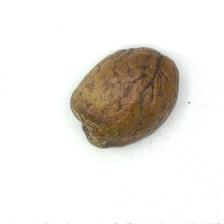NG: (124, 44, 180, 114), (67, 97, 112, 152)
